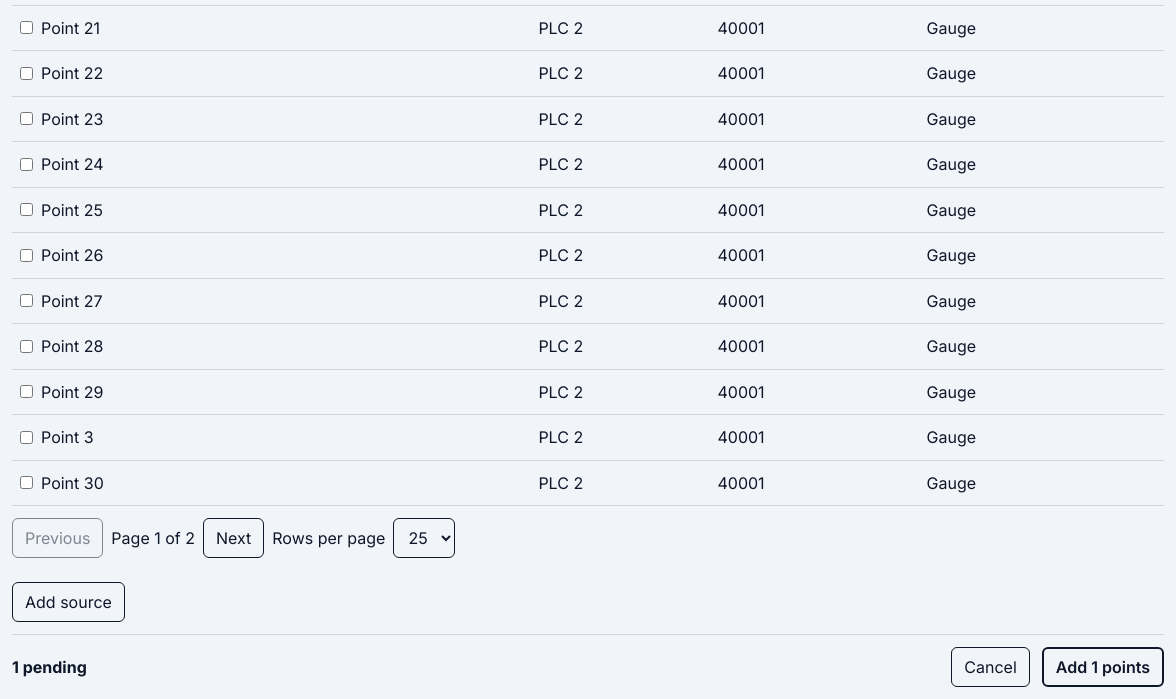
picker recovery after projection or result changes › physically resets page scroll and retains pending selection
(page scrolled)
Click the button "Next": (234, 538) [203,518,264,558]
(page scrolled)
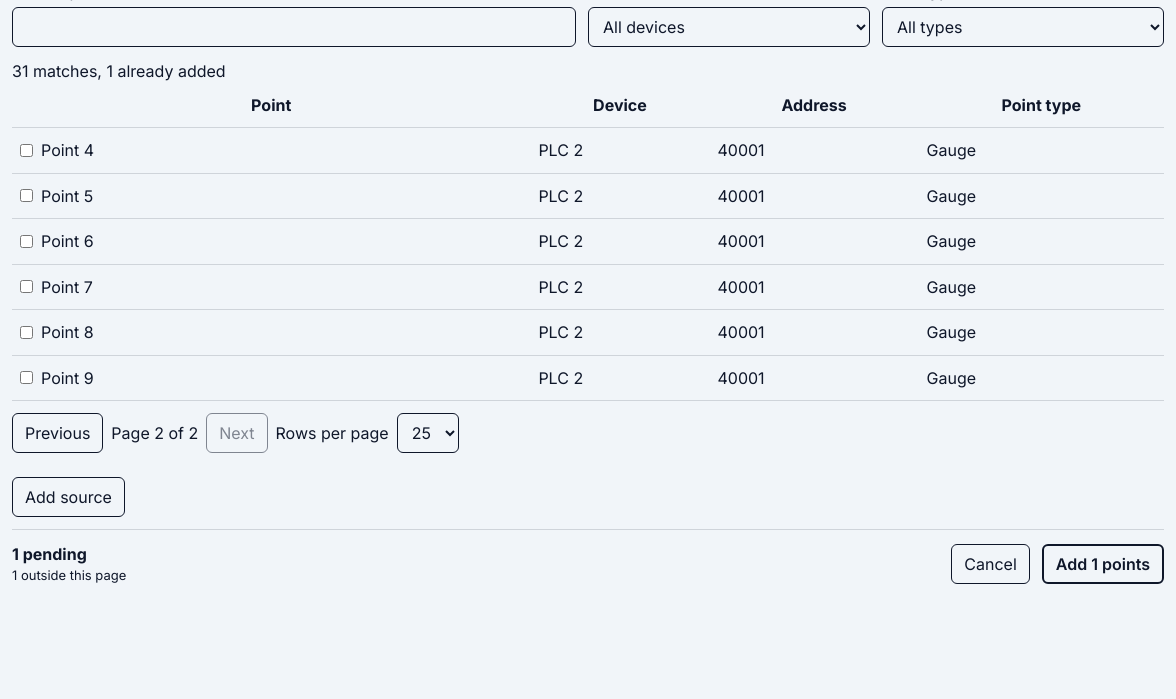
Expected: the text "1 pending" is shown, [12,544,87,564]
Expected: the text "1 outside this page" is shown, [12,567,126,583]
